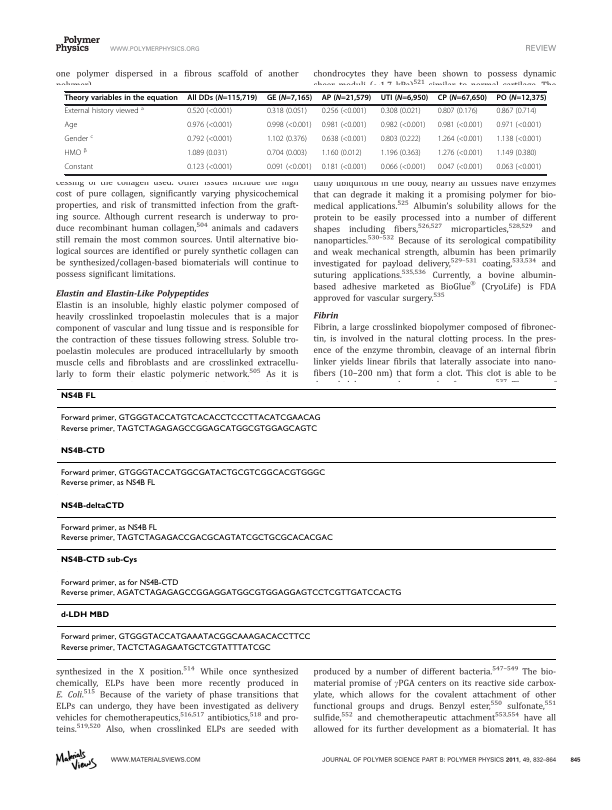borderless: (56, 387, 556, 659), (63, 90, 546, 174)
cell: (59, 588, 402, 598), (59, 533, 333, 543), (59, 468, 326, 478), (59, 424, 318, 434), (59, 414, 321, 423), (59, 633, 311, 642), (59, 643, 271, 653), (59, 578, 179, 588), (64, 94, 179, 103), (63, 105, 145, 117), (59, 523, 157, 533), (59, 479, 156, 488), (59, 556, 138, 565), (59, 501, 125, 511), (186, 94, 258, 103), (186, 107, 233, 117), (186, 121, 233, 131), (495, 121, 542, 131), (186, 135, 233, 145), (495, 135, 542, 145), (186, 163, 233, 173), (495, 163, 542, 173), (495, 94, 547, 103), (321, 107, 367, 117), (266, 121, 312, 131), (321, 121, 367, 131), (380, 121, 426, 131), (437, 121, 483, 131), (321, 135, 367, 145), (437, 135, 483, 145), (437, 149, 483, 159), (266, 163, 312, 173), (321, 163, 367, 173), (380, 163, 426, 173), (437, 163, 483, 173), (59, 446, 105, 456), (321, 94, 372, 103), (437, 94, 488, 103), (59, 611, 109, 620), (380, 94, 429, 103), (266, 94, 313, 103), (266, 107, 308, 117), (380, 107, 422, 117), (437, 107, 479, 117), (495, 107, 537, 117), (266, 135, 308, 145), (380, 135, 422, 145), (186, 149, 228, 159), (266, 149, 308, 159), (380, 149, 422, 159), (495, 149, 537, 159), (321, 149, 362, 159), (64, 133, 94, 145), (59, 392, 96, 401), (64, 163, 94, 173), (64, 147, 88, 159), (64, 121, 78, 131)
